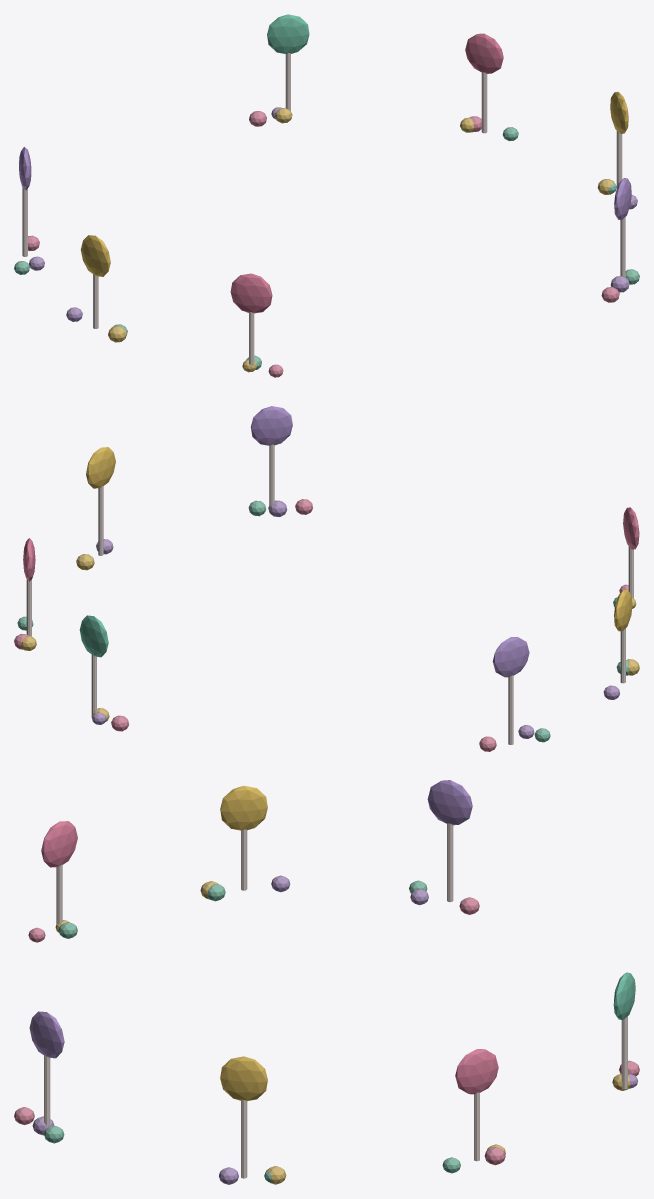
The model's file is goo_jar_props@candy.fbx.
3 views of the same model, one above another, from view 1: azimuth 30°, elevation 25°; view 2: azimuth 150°, elevation 25°; view 3: azimuth 270°, elevation 25° (orthographic). The views are drawn at different scales.
Visible parts, largest first — view 1: goo_jar_props; view 2: goo_jar_props; view 3: goo_jar_props.
Boxes of the visible parts, bbox=[...] form: goo_jar_props: bbox=[14, 14, 639, 377]; goo_jar_props: bbox=[14, 406, 639, 751]; goo_jar_props: bbox=[14, 780, 639, 1184].
Bounding box in the file's own units: 67.87 × 13.35 × 59.83.
